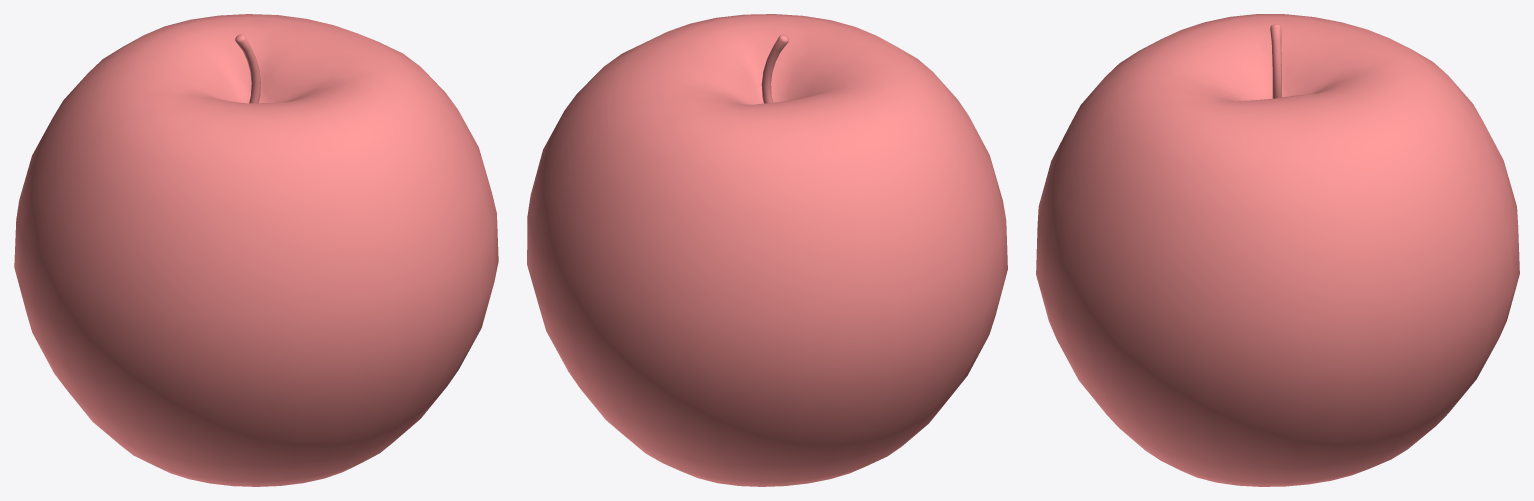
The model's file is apple.FBX.
3 views of the same model, side by side, from view 1: azimuth 30°, elevation 25°; view 2: azimuth 150°, elevation 25°; view 3: azimuth 270°, elevation 25° (orthographic).
Parts seen in each view (by area): view 1: F04 Green apple 3; view 2: F04 Green apple 3; view 3: F04 Green apple 3.
Part boxes in pixels (box(x1,y1,x2,y2)): F04 Green apple 3: box(14, 14, 498, 486); F04 Green apple 3: box(527, 14, 1007, 486); F04 Green apple 3: box(1036, 14, 1519, 486).
Bounding box in the file's own units: 0.0693 × 0.0653 × 0.0688.
